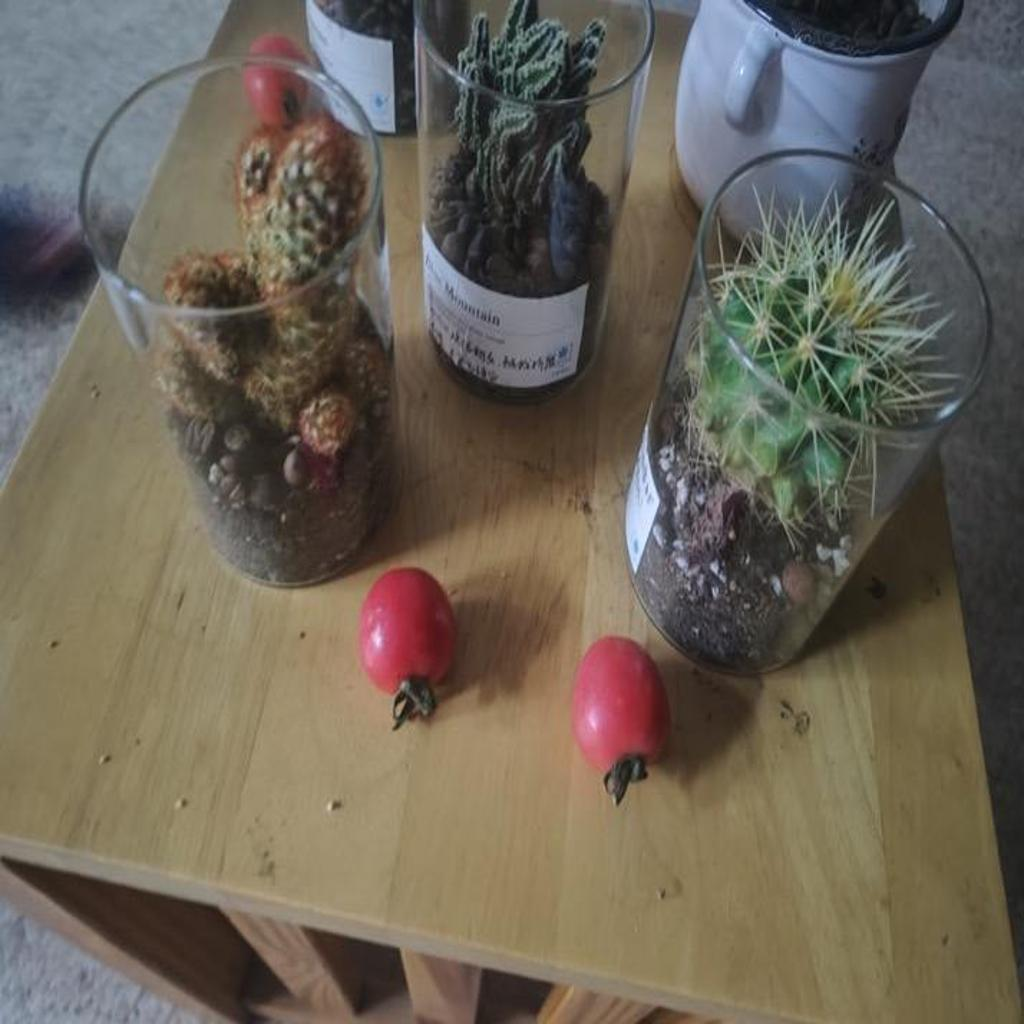tomato: (356, 566, 466, 719), (569, 633, 667, 791)
